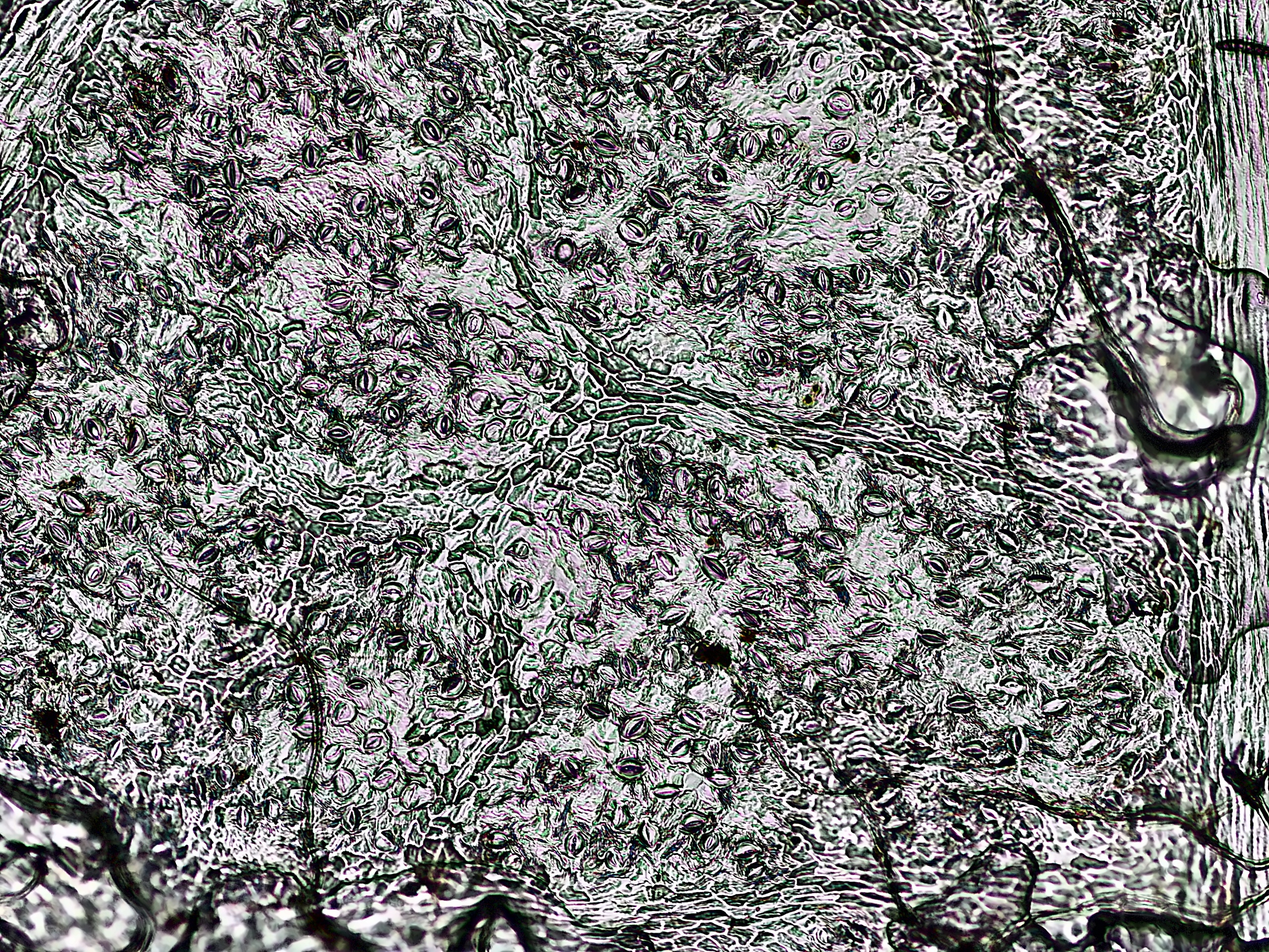stomata: (825, 90, 858, 121), (295, 372, 332, 399), (224, 705, 251, 742), (613, 755, 651, 780), (590, 131, 624, 156), (700, 554, 729, 583), (162, 389, 192, 417), (618, 218, 648, 246), (893, 262, 921, 292), (390, 321, 416, 353), (738, 131, 764, 163), (730, 700, 766, 723), (418, 116, 446, 145), (550, 237, 577, 267), (901, 510, 933, 535), (657, 604, 690, 628), (652, 548, 679, 577), (324, 420, 354, 446), (826, 129, 856, 155), (993, 527, 1023, 553), (351, 368, 382, 393), (633, 131, 657, 163), (602, 845, 629, 873), (439, 671, 467, 698), (192, 541, 221, 567), (808, 168, 834, 197), (621, 716, 651, 741), (396, 534, 428, 557), (304, 608, 331, 635), (579, 302, 607, 328), (636, 500, 664, 526), (349, 128, 371, 161), (59, 489, 88, 514), (645, 185, 674, 210), (862, 493, 892, 517), (934, 304, 957, 335), (1106, 16, 1137, 39), (665, 732, 692, 758), (698, 272, 724, 299), (941, 357, 967, 384), (331, 769, 356, 797), (391, 364, 420, 388), (124, 424, 145, 457), (292, 719, 325, 740), (986, 383, 1019, 404), (678, 812, 708, 835), (385, 669, 415, 692), (105, 335, 131, 361), (332, 699, 357, 726), (0, 382, 24, 410), (401, 779, 422, 811), (569, 618, 597, 642), (927, 183, 955, 207), (889, 343, 917, 367), (870, 184, 899, 207), (463, 309, 485, 339), (562, 827, 584, 857), (690, 506, 712, 536), (730, 740, 761, 761), (891, 658, 922, 679), (204, 424, 230, 449), (437, 84, 464, 108), (80, 559, 104, 586), (765, 278, 789, 305), (244, 75, 267, 103), (113, 578, 141, 601), (834, 650, 857, 678), (914, 93, 946, 113), (121, 638, 150, 660), (722, 11, 752, 32), (1063, 618, 1098, 636), (581, 537, 618, 554), (1088, 56, 1125, 73), (597, 165, 622, 190), (237, 514, 262, 539), (743, 515, 768, 540), (526, 357, 550, 383), (64, 112, 87, 139), (294, 90, 317, 117), (464, 617, 487, 644), (733, 840, 764, 860), (177, 449, 205, 471), (466, 153, 488, 181), (800, 306, 828, 328), (571, 508, 593, 536), (923, 555, 951, 577), (674, 467, 695, 496), (705, 769, 737, 788), (47, 520, 71, 545), (370, 271, 400, 291), (287, 680, 307, 710), (338, 623, 368, 643), (750, 202, 770, 232), (1101, 682, 1131, 702), (187, 0, 210, 26), (79, 653, 105, 676), (647, 441, 673, 464), (565, 184, 592, 206), (434, 413, 456, 440), (678, 704, 705, 726), (811, 267, 833, 294), (840, 381, 862, 408), (958, 742, 991, 760), (946, 695, 977, 714), (578, 34, 606, 55), (4, 548, 32, 569), (747, 857, 768, 885), (378, 581, 406, 602), (583, 262, 611, 283), (686, 229, 707, 257), (641, 818, 661, 847), (798, 716, 827, 736), (759, 54, 779, 83), (417, 182, 441, 206), (422, 38, 445, 63), (349, 191, 372, 216), (382, 402, 405, 427), (495, 345, 517, 371), (835, 350, 861, 372), (706, 476, 728, 502), (815, 529, 841, 551), (788, 594, 814, 616), (920, 629, 950, 648), (1026, 570, 1056, 589), (1008, 726, 1027, 756), (583, 699, 610, 720), (325, 293, 353, 313), (982, 215, 1010, 235), (469, 389, 492, 413), (41, 618, 64, 642), (731, 250, 754, 274), (11, 517, 40, 536), (426, 303, 455, 322), (609, 582, 638, 601), (932, 246, 951, 275), (1046, 61, 1075, 80), (1130, 754, 1149, 783), (151, 281, 173, 306), (72, 350, 97, 372), (45, 405, 67, 430), (703, 117, 725, 142), (586, 87, 612, 108), (16, 436, 42, 457), (121, 508, 142, 534), (435, 212, 461, 233), (450, 358, 476, 379), (660, 646, 681, 672), (625, 457, 646, 483), (894, 572, 915, 598), (883, 814, 915, 831), (641, 47, 668, 67), (302, 142, 322, 169), (484, 830, 511, 850), (620, 654, 640, 681), (741, 584, 771, 602), (84, 416, 103, 444), (801, 668, 820, 696), (1021, 510, 1049, 529), (936, 590, 964, 609), (1076, 580, 1104, 599), (110, 671, 133, 694), (372, 98, 394, 122), (550, 59, 574, 81), (833, 197, 857, 219), (813, 927, 837, 949), (244, 25, 265, 50), (342, 88, 367, 109), (358, 310, 383, 331), (208, 606, 233, 627), (942, 517, 967, 538), (965, 550, 990, 571), (979, 802, 1004, 823), (386, 3, 404, 32), (168, 509, 197, 527), (870, 86, 888, 115), (219, 331, 239, 357), (215, 763, 235, 789), (509, 582, 529, 608), (852, 263, 872, 289), (757, 313, 783, 333), (163, 67, 182, 94), (225, 160, 244, 187), (860, 53, 887, 72), (976, 267, 995, 294), (1105, 716, 1135, 733), (231, 247, 254, 269), (252, 681, 275, 703), (654, 259, 677, 281), (323, 52, 347, 73), (65, 265, 83, 293), (768, 123, 786, 151), (787, 80, 808, 104), (1016, 277, 1040, 298), (1073, 32, 1101, 50), (863, 616, 887, 637), (120, 144, 145, 164), (186, 174, 206, 199), (319, 326, 344, 346), (311, 565, 336, 585), (533, 678, 553, 703), (497, 399, 523, 418), (314, 649, 340, 668), (905, 735, 934, 752), (556, 155, 574, 182), (388, 234, 415, 252), (317, 221, 339, 243), (597, 664, 619, 686), (868, 389, 890, 411), (483, 423, 506, 444), (669, 70, 692, 91), (97, 113, 121, 133), (73, 684, 97, 704), (809, 49, 829, 73), (859, 230, 883, 250), (754, 346, 774, 370), (0, 655, 19, 680), (858, 314, 883, 333), (794, 346, 819, 365), (1120, 560, 1145, 579), (335, 5, 353, 31), (1073, 195, 1099, 213), (1000, 677, 1029, 693), (636, 79, 658, 100), (207, 244, 229, 265), (749, 648, 770, 670), (0, 454, 20, 477), (515, 419, 535, 442), (842, 689, 862, 712), (884, 698, 911, 715), (392, 45, 411, 69), (104, 306, 128, 325), (182, 336, 201, 360), (141, 460, 165, 479), (87, 708, 111, 727), (263, 797, 282, 821), (346, 548, 370, 567), (561, 755, 580, 779), (979, 590, 1003, 609), (234, 806, 252, 831), (992, 643, 1022, 658), (209, 205, 230, 226), (707, 166, 728, 187), (151, 115, 173, 135), (9, 590, 32, 609), (269, 226, 288, 249), (362, 734, 385, 753), (408, 747, 431, 766), (652, 783, 681, 798), (279, 55, 303, 73), (738, 608, 762, 626), (1040, 696, 1064, 714), (438, 244, 463, 261), (344, 805, 359, 833), (324, 743, 345, 763), (902, 75, 922, 96), (786, 629, 807, 649), (381, 202, 400, 224), (346, 677, 368, 696), (747, 35, 769, 54), (704, 52, 723, 74), (822, 566, 844, 585), (1049, 645, 1071, 664), (231, 122, 248, 146), (663, 115, 680, 139), (418, 644, 437, 665), (154, 580, 172, 602), (99, 252, 122, 269), (124, 271, 141, 294), (107, 739, 124, 762), (849, 60, 865, 84), (545, 127, 565, 146), (866, 588, 886, 607), (942, 791, 963, 809), (1169, 78, 1186, 100), (373, 770, 396, 786), (703, 830, 719, 853), (1127, 192, 1150, 208), (778, 542, 804, 556), (290, 791, 309, 810), (982, 334, 997, 358), (344, 238, 361, 259), (26, 688, 43, 709), (264, 532, 281, 553), (47, 283, 63, 305), (102, 507, 116, 532), (948, 823, 967, 841), (1109, 87, 1135, 100), (383, 634, 407, 648), (192, 775, 206, 798), (570, 665, 586, 685), (290, 15, 311, 30), (513, 541, 529, 559), (202, 110, 217, 129), (149, 741, 162, 762), (1094, 256, 1115, 269), (24, 259, 40, 276), (0, 689, 10, 716), (1075, 163, 1093, 177), (0, 492, 12, 508)
